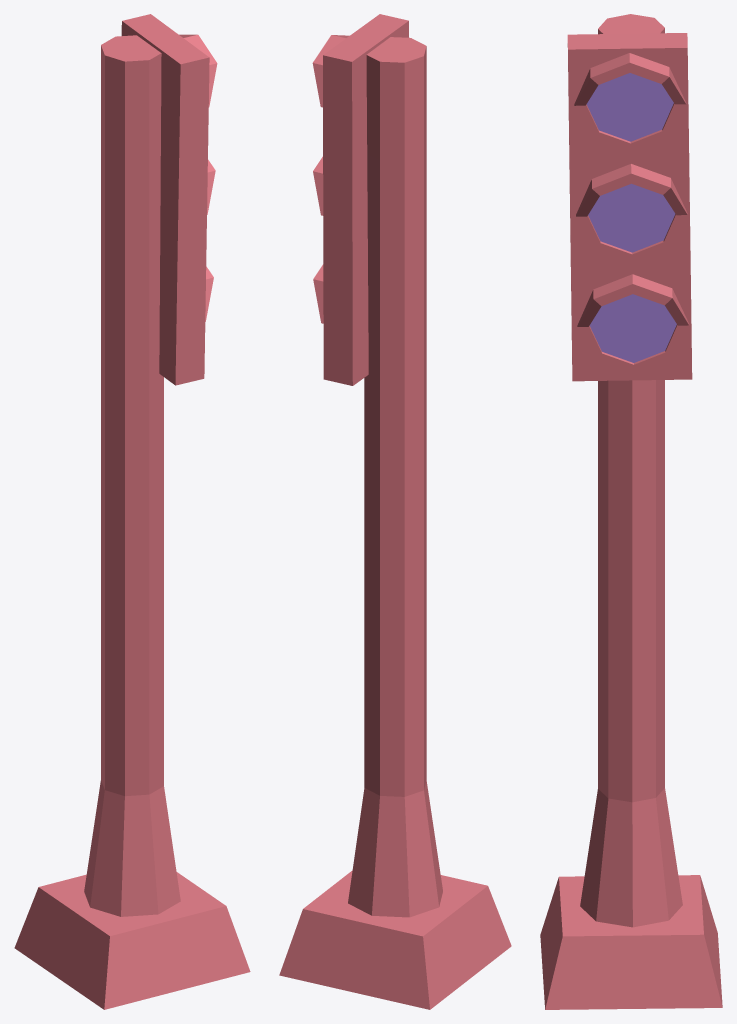
The model's file is smallTrafficLight.fbx.
3 views of the same model, side by side, from view 1: azimuth 30°, elevation 25°; view 2: azimuth 150°, elevation 25°; view 3: azimuth 270°, elevation 25° (orthographic). The views are drawn at different scales.
Visible parts, largest first — view 1: Traffic Light.005; view 2: Traffic Light.005; view 3: Traffic Light.005.
Boxes of the visible parts, box(x1,y1,x2,y2) form: Traffic Light.005: box(14, 14, 250, 1009); Traffic Light.005: box(279, 14, 511, 1009); Traffic Light.005: box(540, 14, 722, 1009).
Size of the model in its own units: 8.3 by 47.54 by 8.3.
